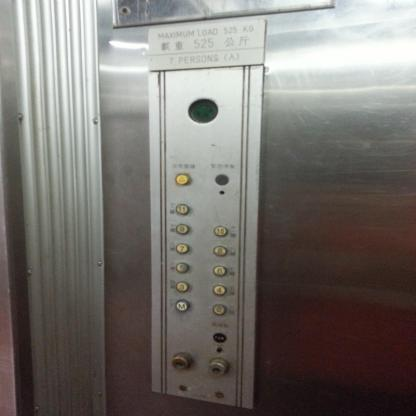10: (214, 226, 227, 236)
11: (175, 203, 189, 215)
2: (212, 303, 226, 316)
3: (176, 281, 188, 292)
4: (212, 284, 226, 295)
5: (176, 262, 188, 273)
6: (213, 266, 227, 276)
7: (176, 242, 188, 254)
8: (213, 245, 227, 257)
9: (175, 223, 189, 235)
M: (175, 300, 190, 312)
alarm: (174, 174, 190, 185)
blur: (187, 97, 219, 124)
empty: (214, 174, 229, 186)
keyhole: (170, 352, 192, 370), (209, 358, 228, 376)
text_FAN: (212, 332, 227, 343)
